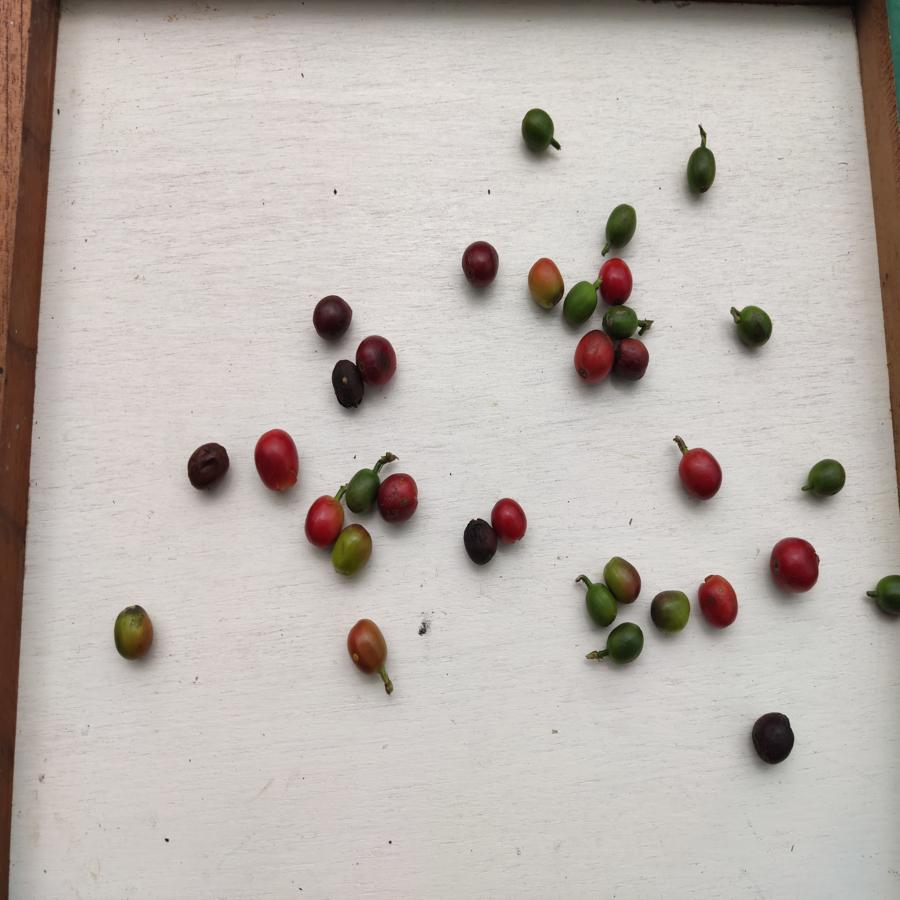Inmaduro: (802, 453, 853, 505), (518, 109, 565, 160), (600, 624, 648, 673), (603, 200, 645, 252), (649, 589, 693, 638), (733, 300, 773, 353), (683, 145, 723, 193), (561, 277, 598, 326), (869, 567, 900, 625), (339, 467, 378, 513), (580, 579, 616, 628), (601, 303, 647, 336)
Maduro: (768, 534, 821, 593), (253, 428, 301, 490), (697, 574, 741, 632), (676, 448, 724, 500), (490, 493, 537, 545), (576, 328, 613, 387), (303, 493, 341, 546), (601, 256, 634, 304)
Pinton: (109, 603, 157, 662), (343, 619, 395, 673), (333, 523, 376, 579), (603, 546, 644, 602), (527, 254, 564, 308)
Sobremaduro: (749, 708, 798, 767), (180, 440, 231, 491), (378, 470, 422, 525), (353, 333, 401, 383), (313, 291, 356, 344), (328, 353, 365, 412), (460, 239, 503, 288), (460, 513, 496, 568), (610, 336, 652, 383)
